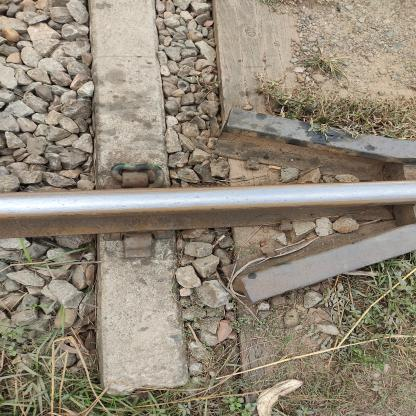Defective 1: (226, 248, 273, 320)
Non Defective 1: (156, 255, 204, 321)
